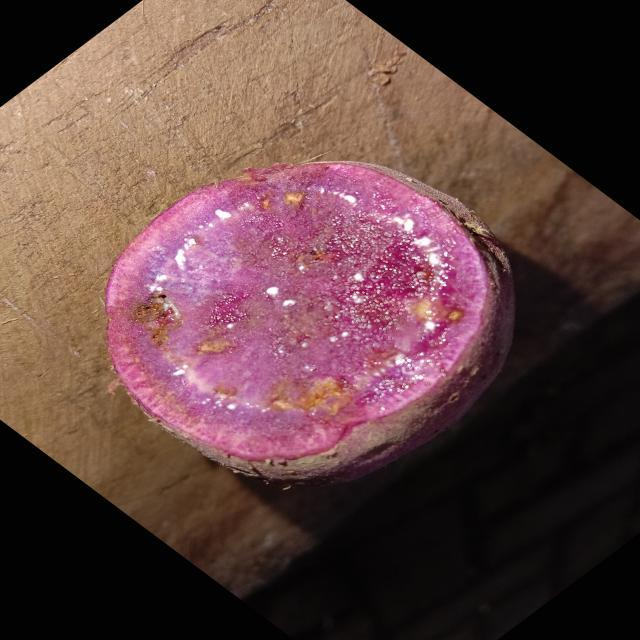Sick Sweet Potato_Tuber Rot: (105, 164, 488, 460)
